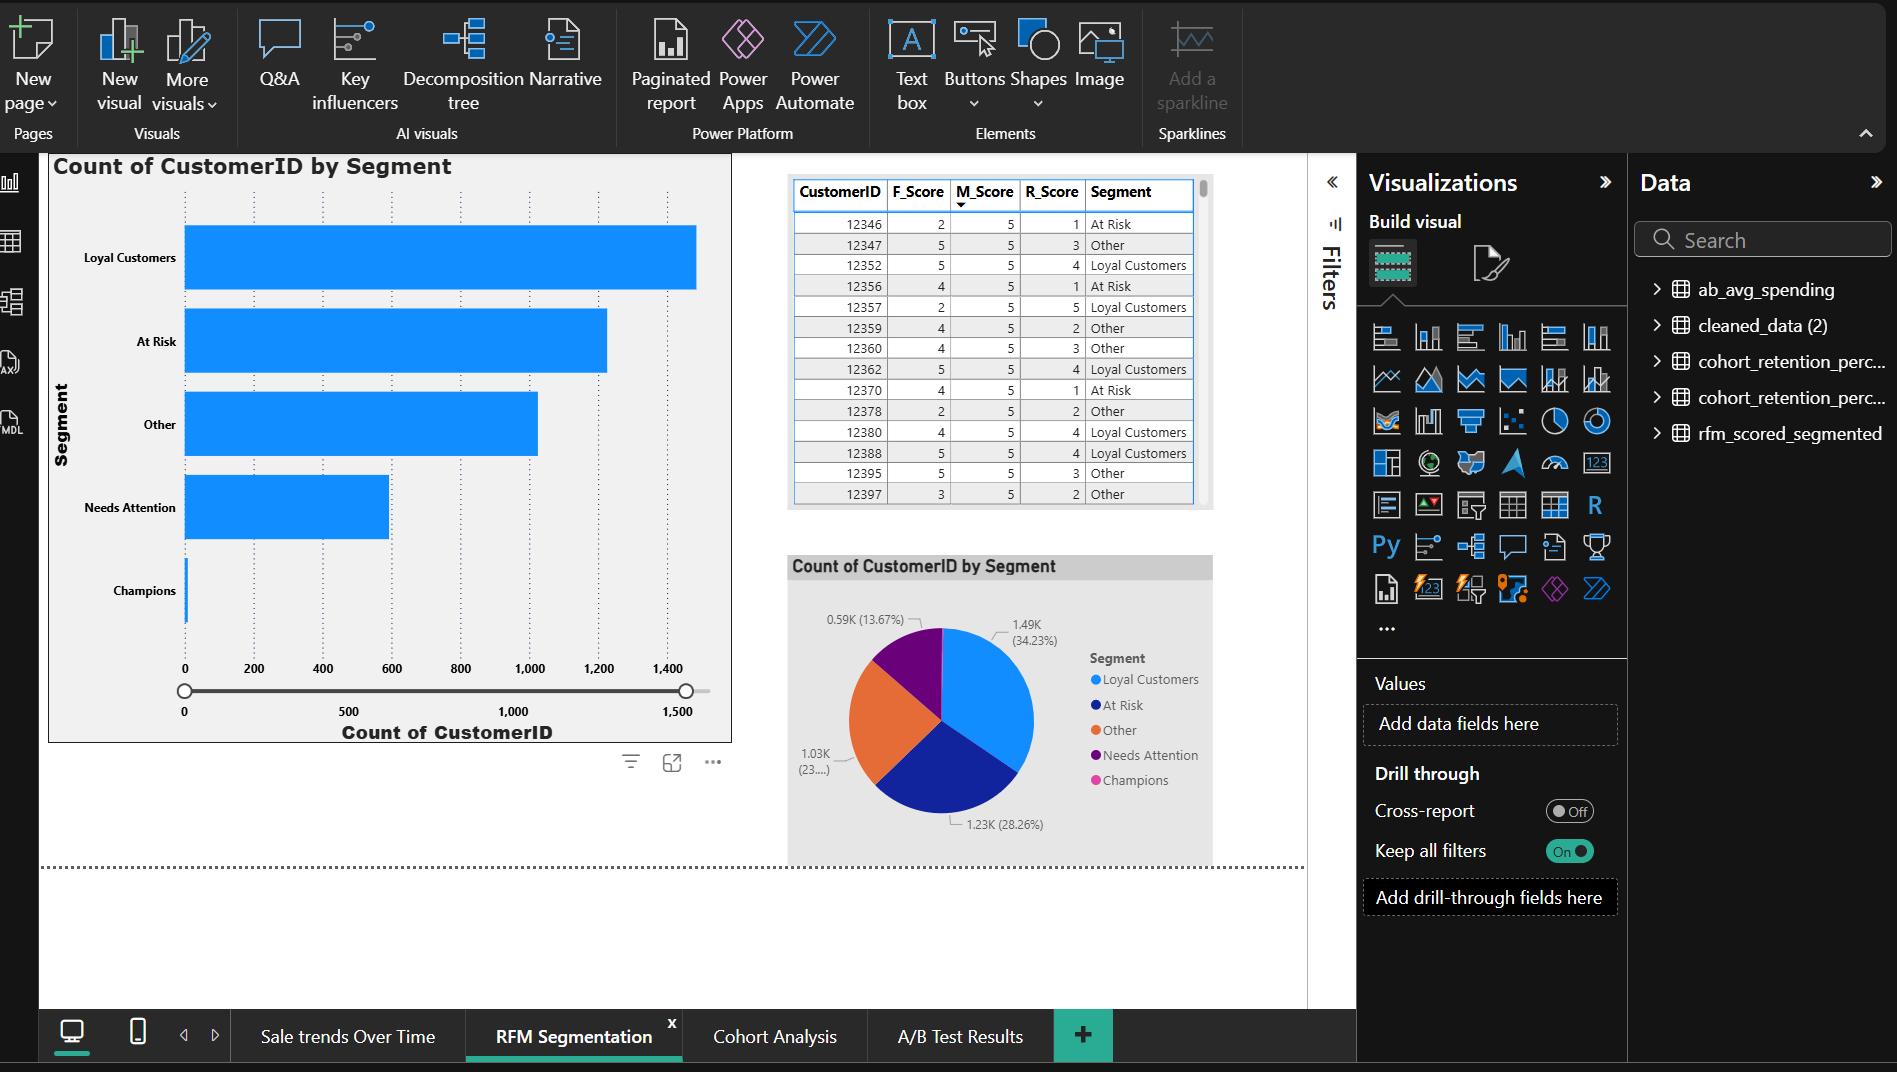

The page's visual inventory and layout, read from the dashboard file:
{"tool":"powerbi","page":{"name":"RFM Segmentation","canvas":[1280,720],"ordinal":1},"visuals":[{"type":"clusteredBarChart","fields":{"Category":["rfm_scored_segmented.Segment"],"Y":["CountNonNull(rfm_scored_segmented.CustomerID)"]},"box":[9.6,0,689.4,595.1],"z":0},{"type":"tableEx","fields":{"Values":["rfm_scored_segmented.CustomerID","rfm_scored_segmented.F_Score","rfm_scored_segmented.M_Score","rfm_scored_segmented.R_Score","rfm_scored_segmented.Segment"]},"box":[754.9,21.2,429.5,338.9],"z":1000},{"type":"pieChart","fields":{"Category":["rfm_scored_segmented.Segment"],"Y":["CountNonNull(rfm_scored_segmented.CustomerID)"]},"box":[754.9,406.3,429.5,313.9],"z":2000}]}

Visuals, with their boxes on the page's 1280x720 design canvas (x1, y1, x2, y2). These are canvas units, not pixel positions in the 1897x1072 screenshot, which may show the page scaled, cropped or inside an application window:
clusteredBarChart - rfm_scored_segmented.Segment x CountNonNull(rfm_scored_segmented.CustomerID): (10, 0, 699, 595)
tableEx - rfm_scored_segmented.CustomerID x rfm_scored_segmented.F_Score: (755, 21, 1184, 360)
pieChart - rfm_scored_segmented.Segment x CountNonNull(rfm_scored_segmented.CustomerID): (755, 406, 1184, 720)
